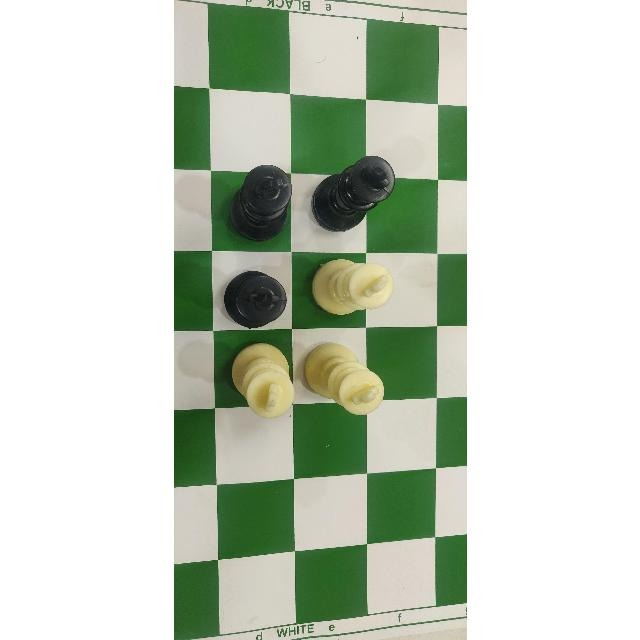black-king: (308, 153, 395, 239), (224, 162, 293, 246), (218, 267, 287, 330)
white-king: (301, 338, 386, 419), (306, 254, 394, 320), (225, 343, 297, 419)
